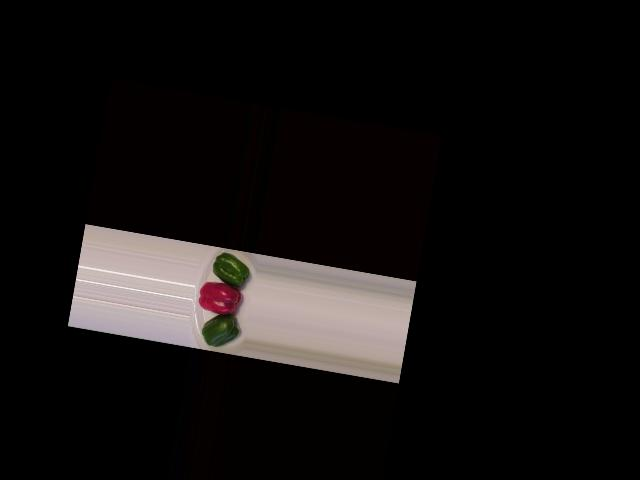bell_pepper: (194, 309, 245, 352)
